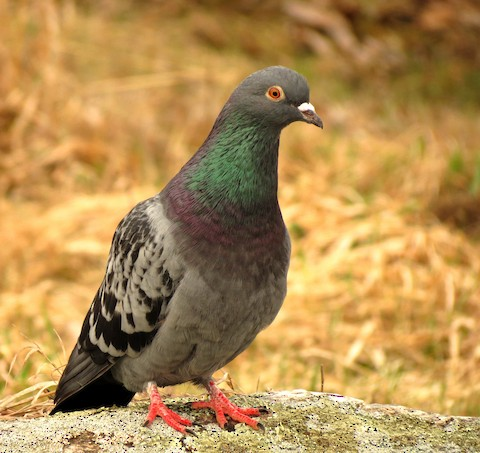pigeon: (45, 60, 332, 439)
